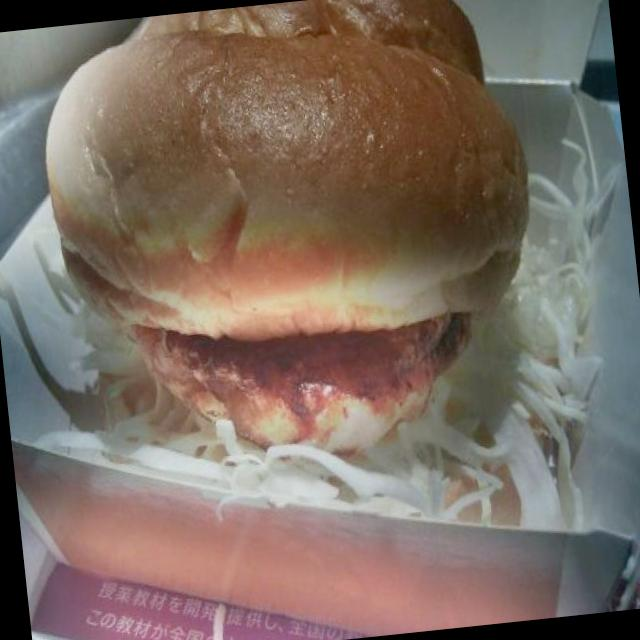Hamburger: (11, 0, 624, 605)
